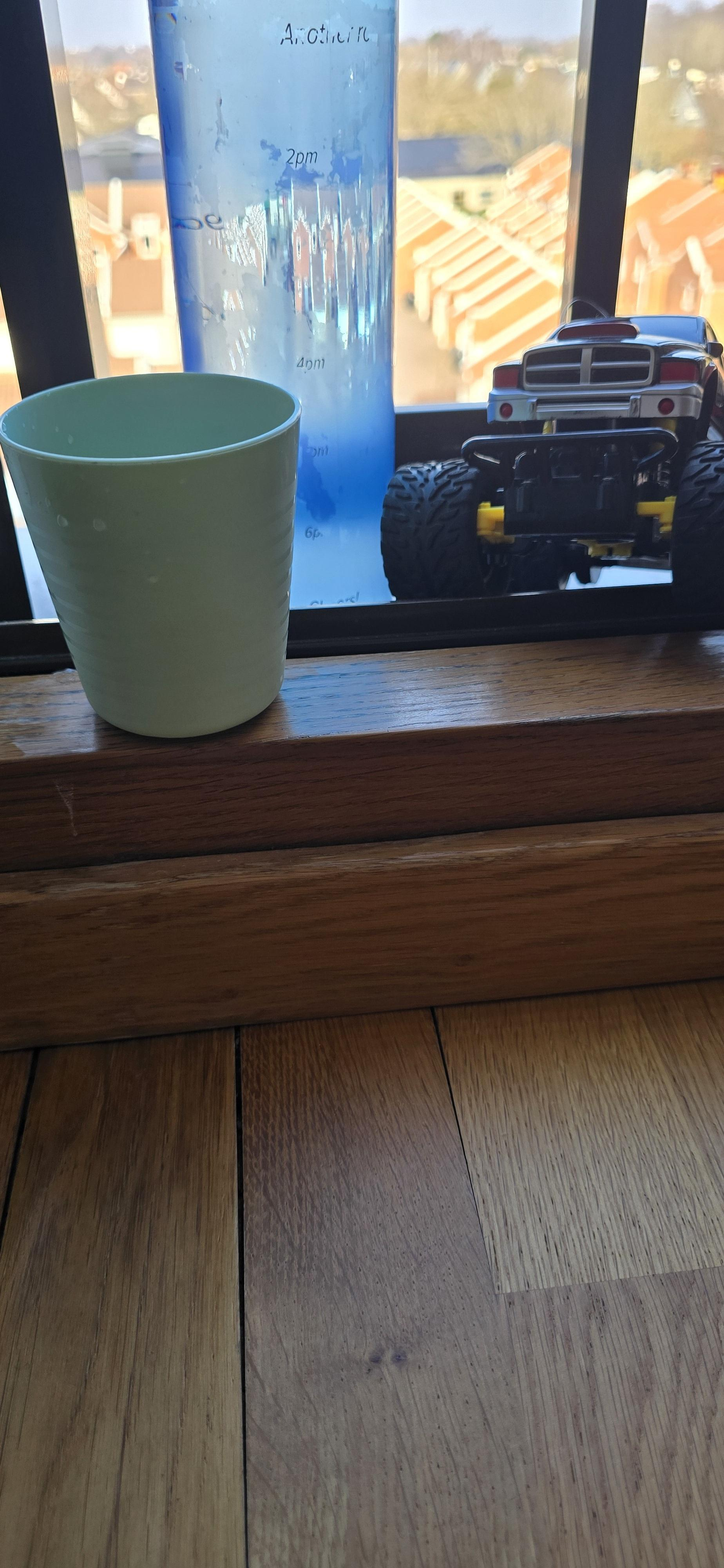bottle: (153, 5, 401, 360)
